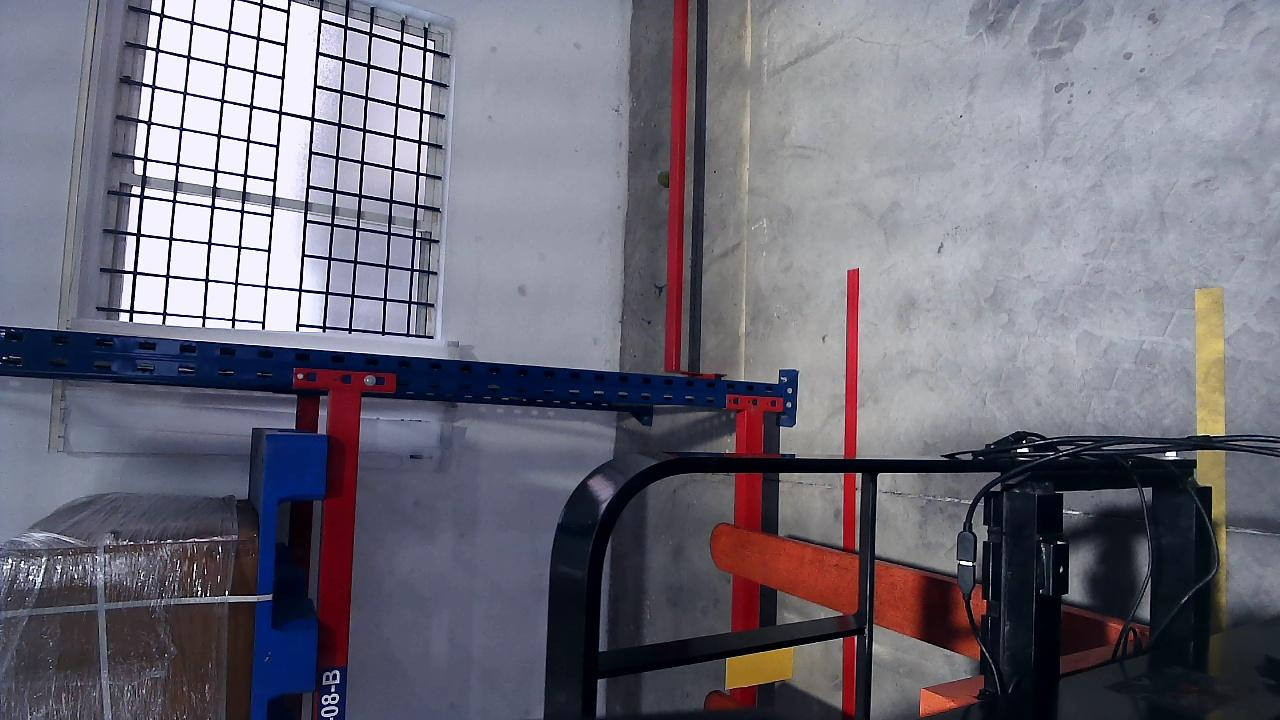h_rack: (313, 387, 363, 719), (732, 414, 766, 628)
orange_strip: (725, 647, 795, 688)
red_line: (841, 264, 863, 719)
small_pallet: (249, 435, 329, 718)
yellow_line: (1195, 286, 1226, 435)
